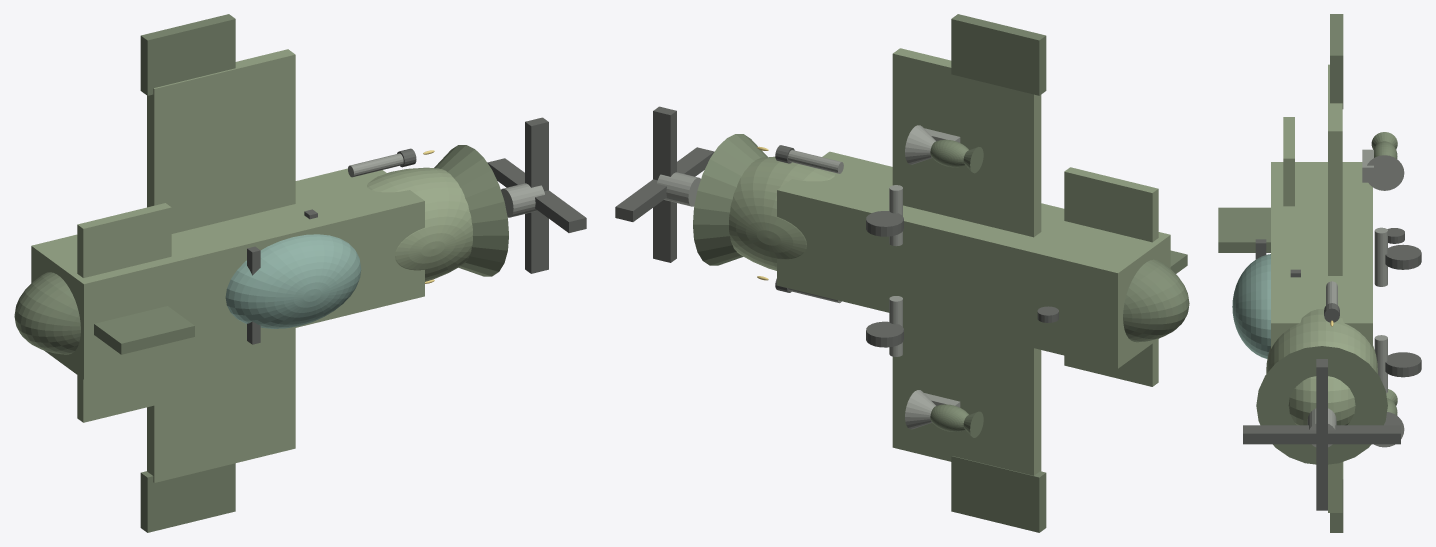
File: ww2-fighter.glb
The picture shows the model from 3 angles, left to right: view 1: azimuth 30°, elevation 25°; view 2: azimuth 150°, elevation 25°; view 3: azimuth 270°, elevation 25°; orthographic projection. The views are drawn at different scales.
Visible parts, largest first — view 1: Fuselage_Core, Wing_Right, Wing_Left, Cockpit_Canopy, Fuselage_Nose, Wingtip_Right, Tail_Right, Nose_Cone, Wingtip_Left, Tail_Left, Tail_Fairing, Vertical_Tail (+4 smaller); view 2: Fuselage_Core, Wing_Right, Wing_Left, Fuselage_Nose, Wingtip_Right, Wingtip_Left, Tail_Right, Nose_Cone, Tail_Fairing, Propeller_Blade_0, Propeller_Blade_1, Tail_Left (+8 smaller); view 3: Fuselage_Core, Nose_Cone, Fuselage_Nose, Cockpit_Canopy, Propeller_Blade_1, Wing_Right, Vertical_Tail, Propeller_Blade_0, Wingtip_Right, Tail_Right, Bomb_Nose_R, Wheel_L (+13 smaller).
Boxes of the visible parts, left/top/right/bottom form: Fuselage_Core: left=31, top=168, right=424, bottom=379; Wing_Right: left=147, top=49, right=295, bottom=233; Wing_Left: left=147, top=328, right=295, bottom=482; Cockpit_Canopy: left=225, top=234, right=361, bottom=328; Fuselage_Nose: left=367, top=167, right=472, bottom=281; Wingtip_Right: left=140, top=14, right=235, bottom=95; Tail_Right: left=77, top=203, right=171, bottom=277; Nose_Cone: left=434, top=145, right=508, bottom=276; Wingtip_Left: left=140, top=463, right=235, bottom=532; Tail_Left: left=77, top=358, right=171, bottom=422; Tail_Fairing: left=14, top=272, right=80, bottom=354; Vertical_Tail: left=94, top=306, right=194, bottom=354; Fuselage_Core: left=777, top=151, right=1170, bottom=368; Wing_Right: left=892, top=48, right=1041, bottom=237; Wing_Left: left=892, top=316, right=1041, bottom=475; Fuselage_Nose: left=729, top=156, right=834, bottom=270; Wingtip_Right: left=951, top=14, right=1046, bottom=95; Wingtip_Left: left=951, top=456, right=1046, bottom=532; Tail_Right: left=1064, top=167, right=1158, bottom=242; Nose_Cone: left=693, top=134, right=767, bottom=265; Tail_Fairing: left=1123, top=259, right=1189, bottom=342; Propeller_Blade_0: left=653, top=106, right=676, bottom=262; Propeller_Blade_1: left=615, top=147, right=714, bottom=221; Tail_Left: left=1064, top=339, right=1158, bottom=386; Fuselage_Core: left=1271, top=162, right=1372, bottom=348; Nose_Cone: left=1256, top=346, right=1387, bottom=464; Fuselage_Nose: left=1266, top=309, right=1377, bottom=425; Cockpit_Canopy: left=1232, top=254, right=1270, bottom=358; Propeller_Blade_1: left=1243, top=425, right=1400, bottom=444; Wing_Right: left=1328, top=64, right=1342, bottom=275; Vertical_Tail: left=1218, top=207, right=1270, bottom=252; Propeller_Blade_0: left=1316, top=359, right=1327, bottom=510; Wingtip_Right: left=1330, top=14, right=1343, bottom=108; Tail_Right: left=1283, top=117, right=1294, bottom=206; Bomb_Nose_R: left=1367, top=155, right=1404, bottom=190; Wheel_L: left=1385, top=352, right=1421, bottom=377.
Bounding box in the file's own units: 8.97 × 8 × 3.09.
